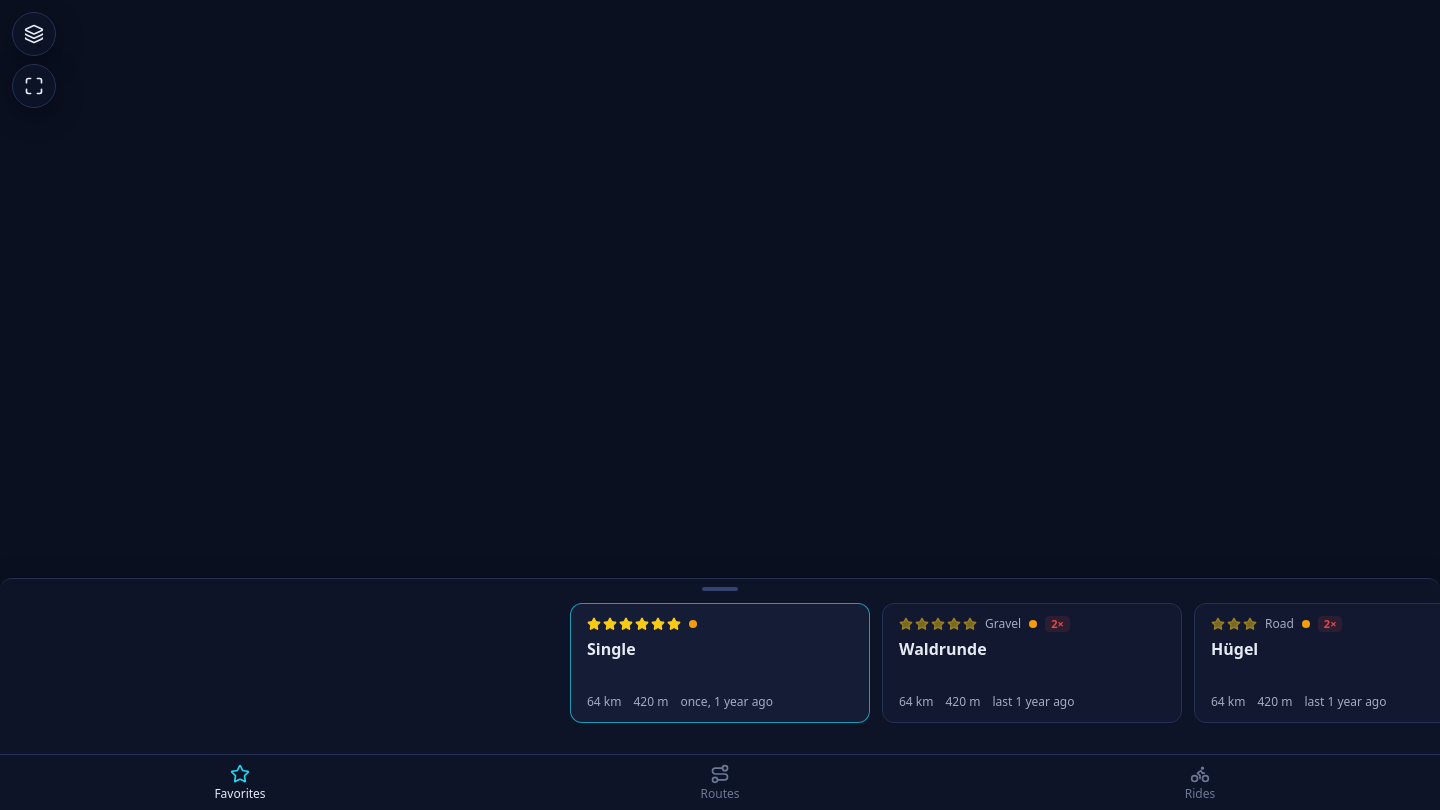
MobileApp › opens a route from the expanded list, then one of its rides
Expected: the list named "Swipe through routes" is shown, [570,603,1439,723]
Click the button named "Expand panel": (720, 589) [0,579,1439,599]
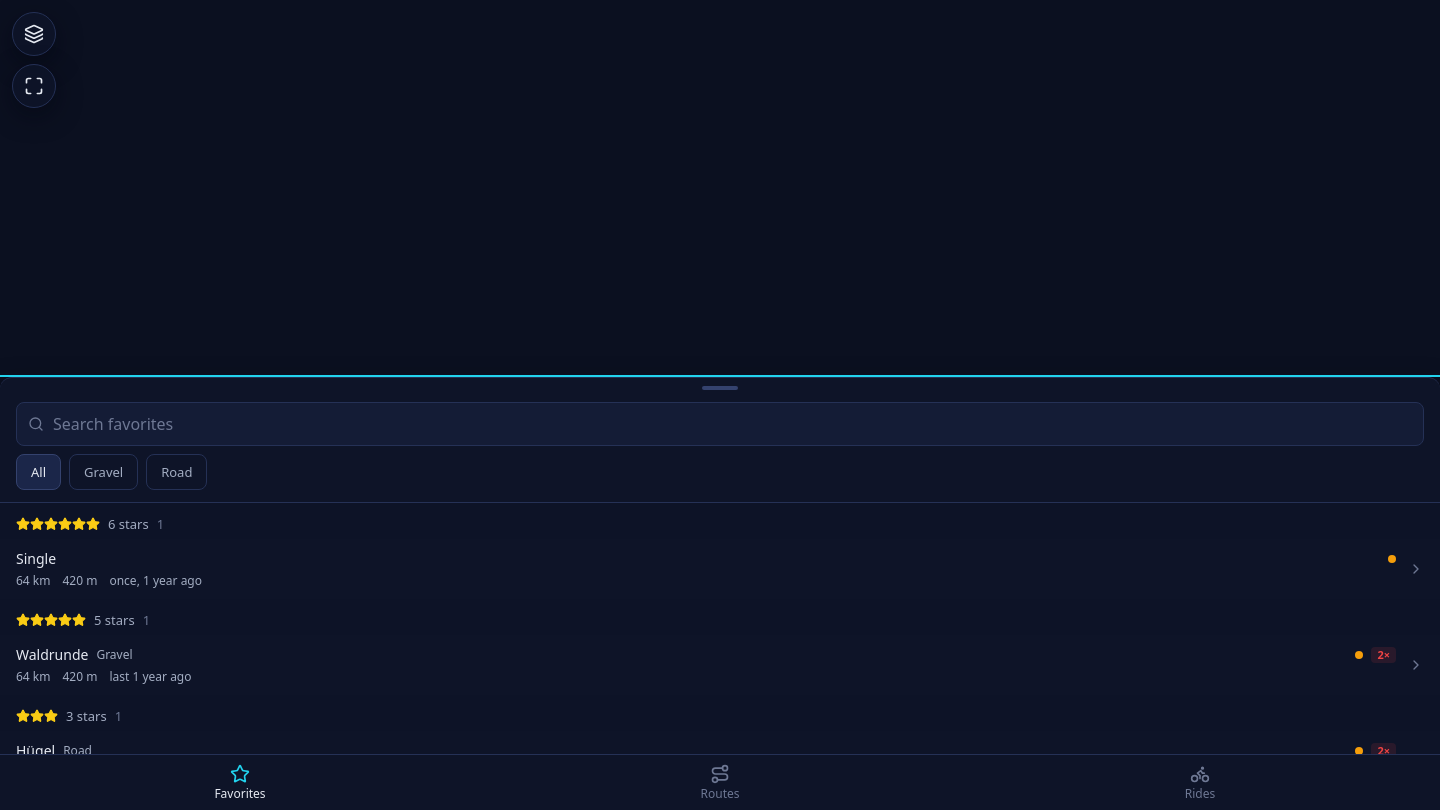
Click the button "Waldrunde Gravel 2× 64 km 420 m last 1 year ago": (52, 654) [0,635,1439,695]
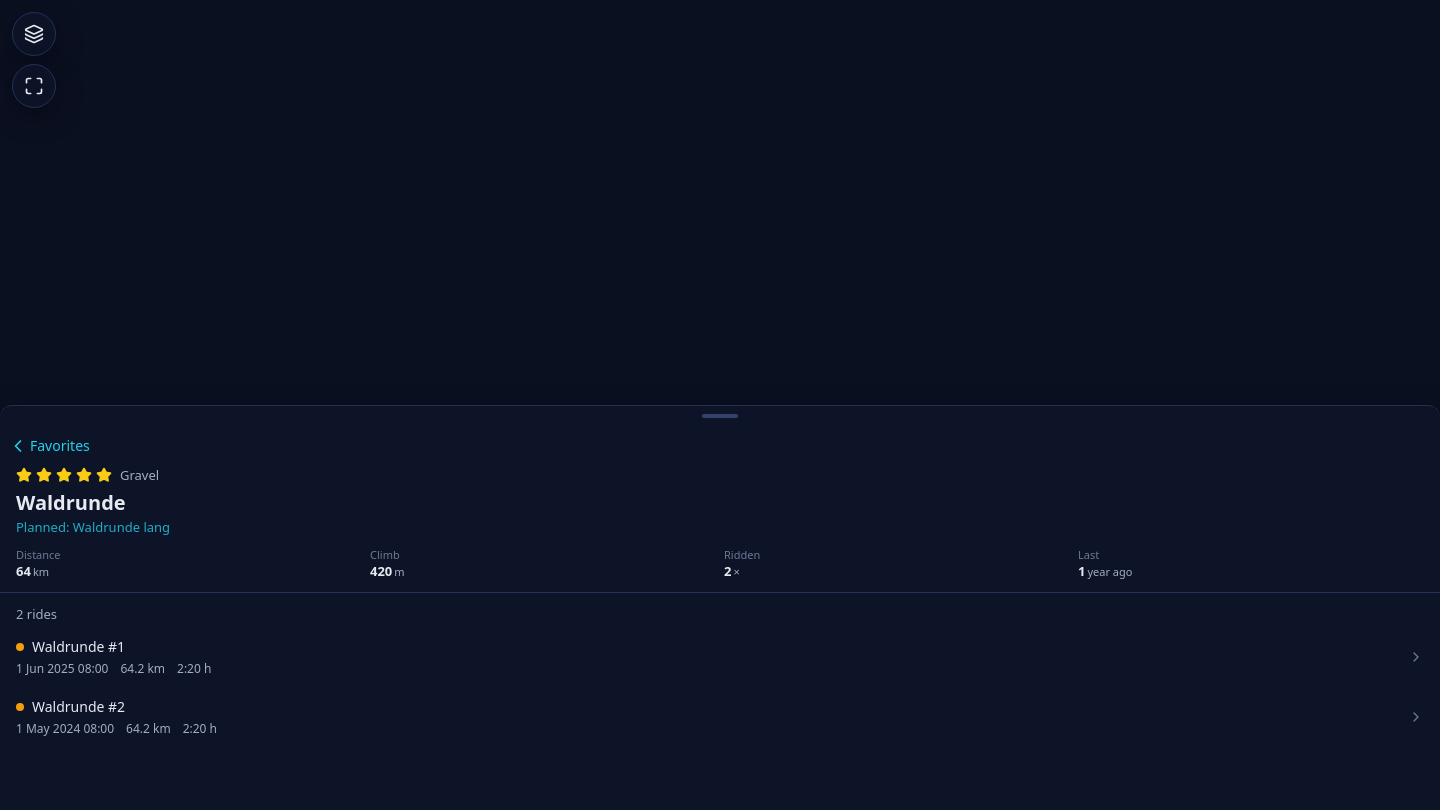
Result: the heading "Waldrunde" is shown at [16,489,126,516]
Result: the text "Planned: Waldrunde lang" is shown at [16,518,170,536]
Click the text "Waldrunde #2": (79, 707) [32,697,125,717]
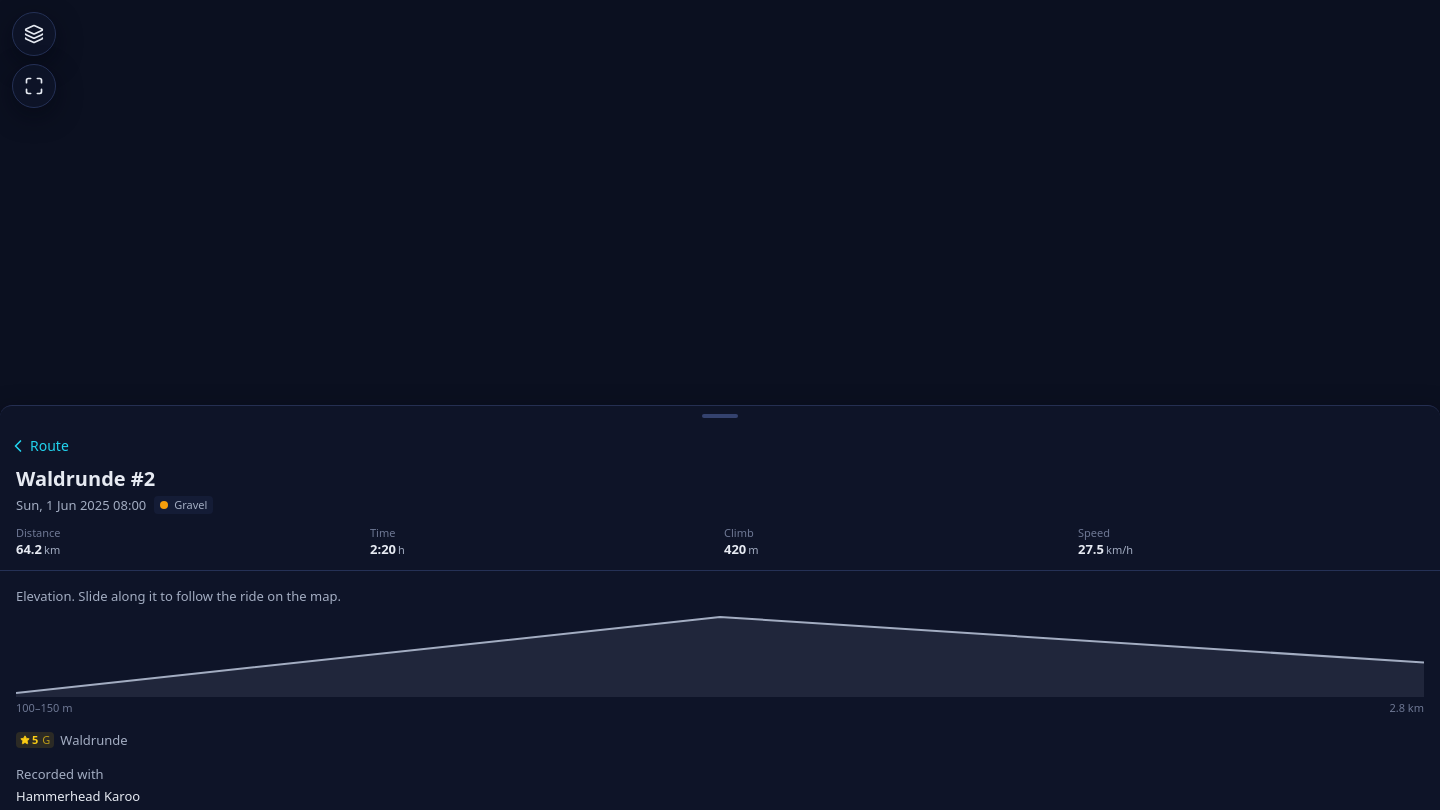
Result: the heading "Waldrunde #2" is shown at [16,465,155,492]
Result: the list item "Hammerhead Karoo" is shown at [16,787,140,805]
Click the button "Route": (42, 446) [8,426,77,466]
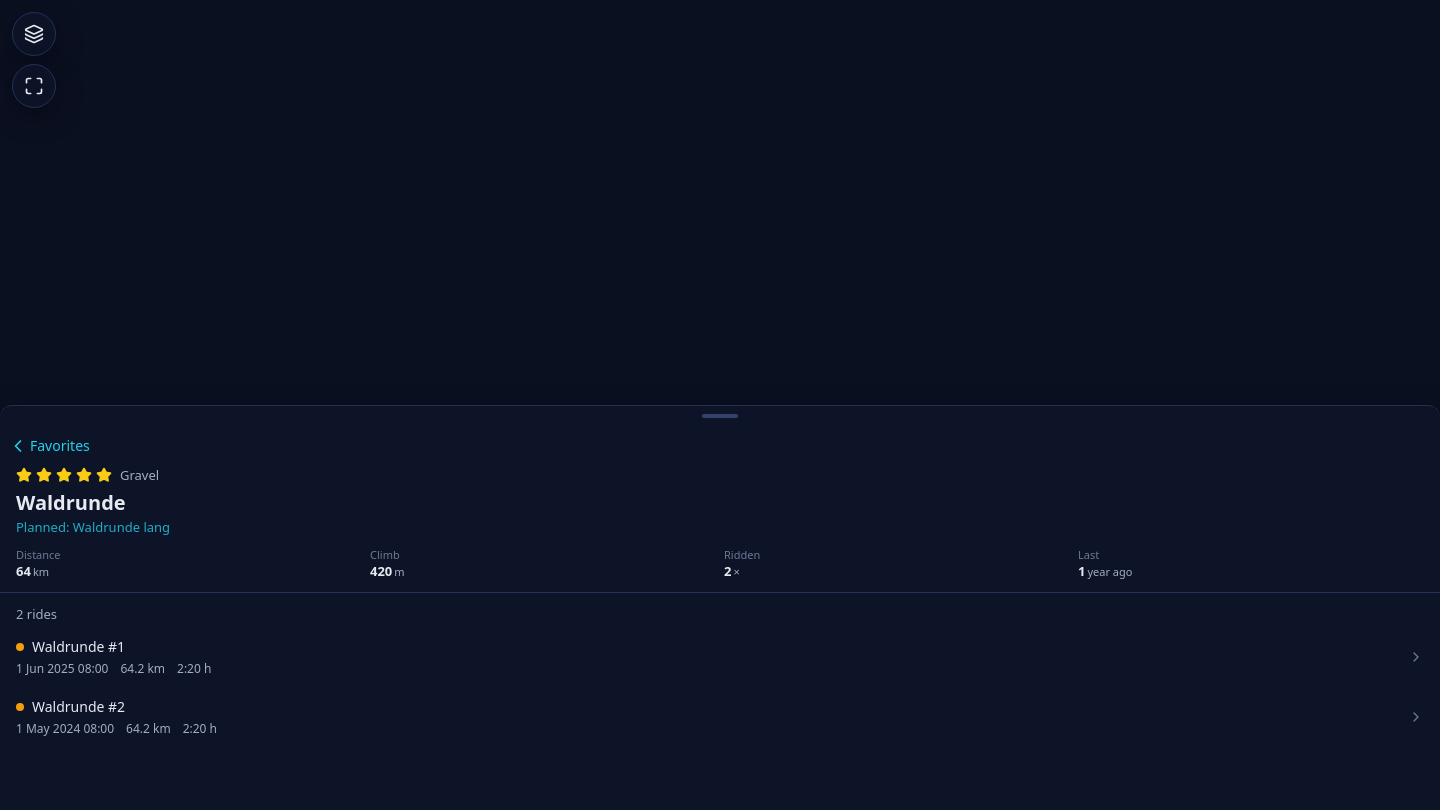
Result: the heading "Waldrunde" is shown at [16,489,126,516]
